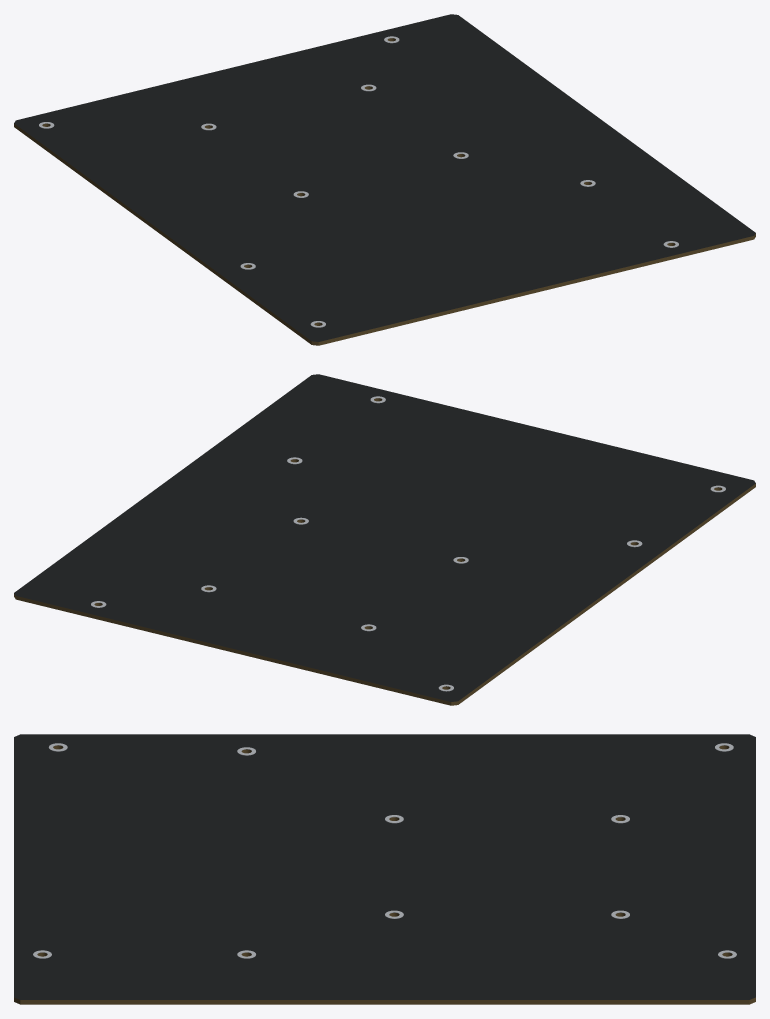
Rendered from L129_PCB.fbx.
3 renders of one model, top to bottom at view 1: azimuth 30°, elevation 25°; view 2: azimuth 150°, elevation 25°; view 3: azimuth 270°, elevation 25°, orthographic. The views are drawn at different scales.
Visible parts, largest first — view 1: PCB__PCB, PCB__FR4, PCB__Steel; view 2: PCB__PCB, PCB__FR4, PCB__Steel; view 3: PCB__PCB, PCB__FR4, PCB__Steel.
Part boxes in pixels (x1,y1,x2,y2): PCB__PCB: [14, 14, 755, 341]; PCB__FR4: [14, 38, 755, 345]; PCB__Steel: [39, 36, 678, 327]; PCB__PCB: [14, 374, 755, 701]; PCB__FR4: [14, 398, 755, 705]; PCB__Steel: [91, 396, 725, 691]; PCB__PCB: [14, 734, 755, 999]; PCB__FR4: [14, 745, 755, 1004]; PCB__Steel: [33, 743, 736, 958].
Bounding box in the file's own units: 200 × 1.77 × 236.
